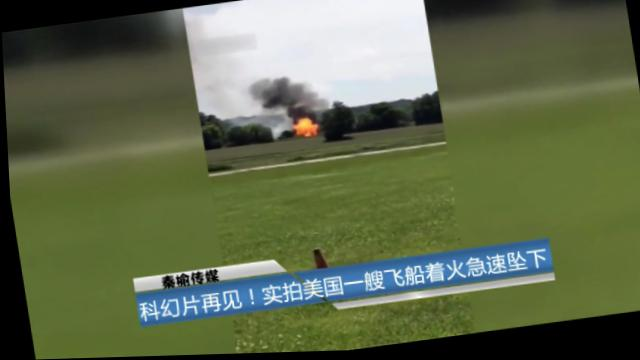fire: (290, 117, 317, 139)
